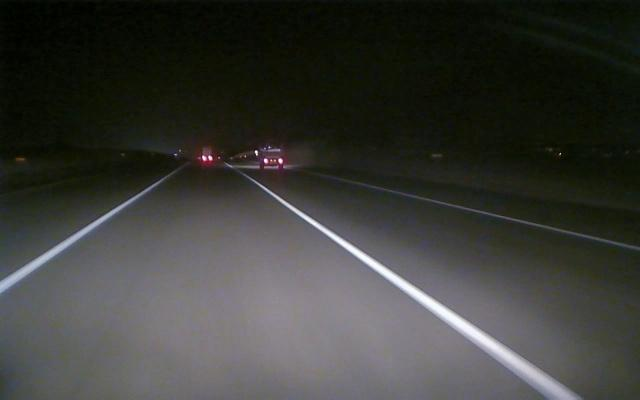lane: (257, 181, 582, 397), (3, 181, 161, 291), (384, 187, 640, 251)
